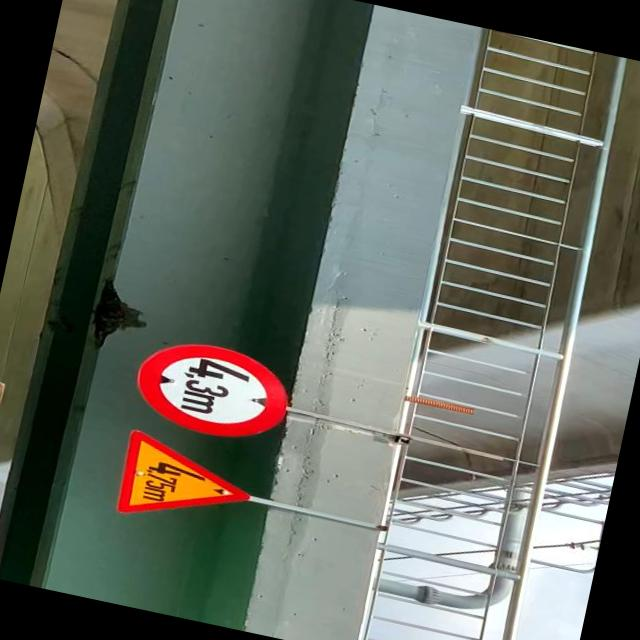P-117: (125, 328, 298, 449)
W-239b: (117, 432, 257, 536)
